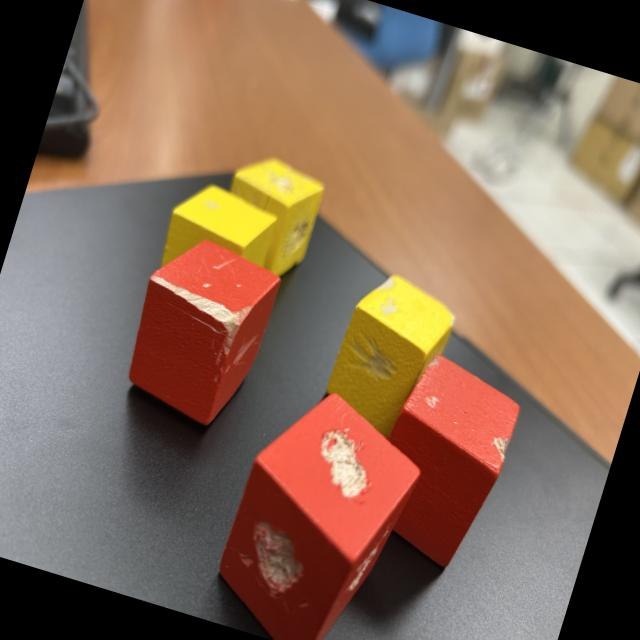broken: (203, 372, 436, 640), (351, 344, 528, 576), (112, 225, 286, 433), (316, 264, 462, 450), (208, 146, 331, 285), (154, 174, 285, 297)
